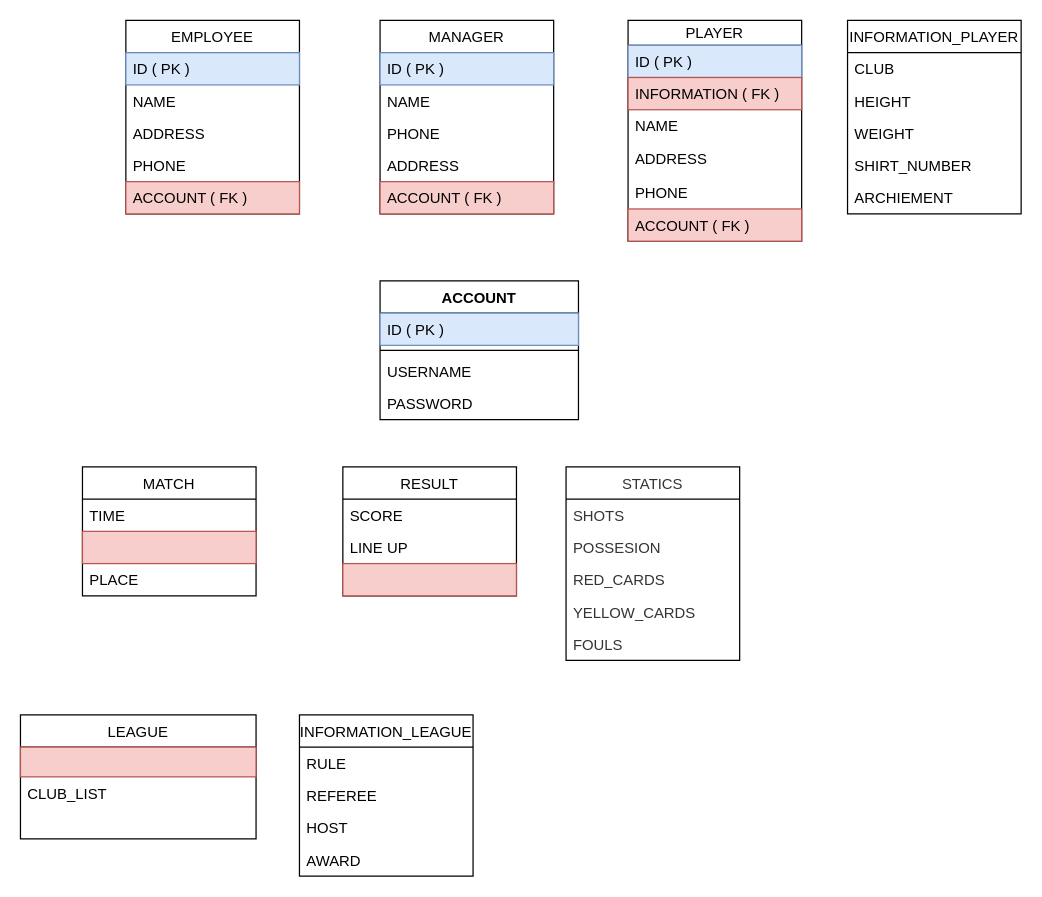
This 1042x897 diagram has some shape labels left out. Here are the shapes that lost their labels. From the top down, the centre of each, then its label:
At point 168,547: "RESULT ( FK )".
At point 429,579: "STATS ( FK )".
At point 137,761: "INFORMATION_LEAGUE ( FK )".
